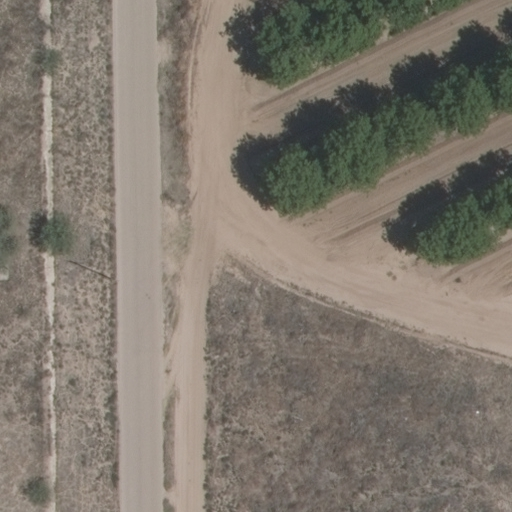DT: (94, 267, 116, 285)
